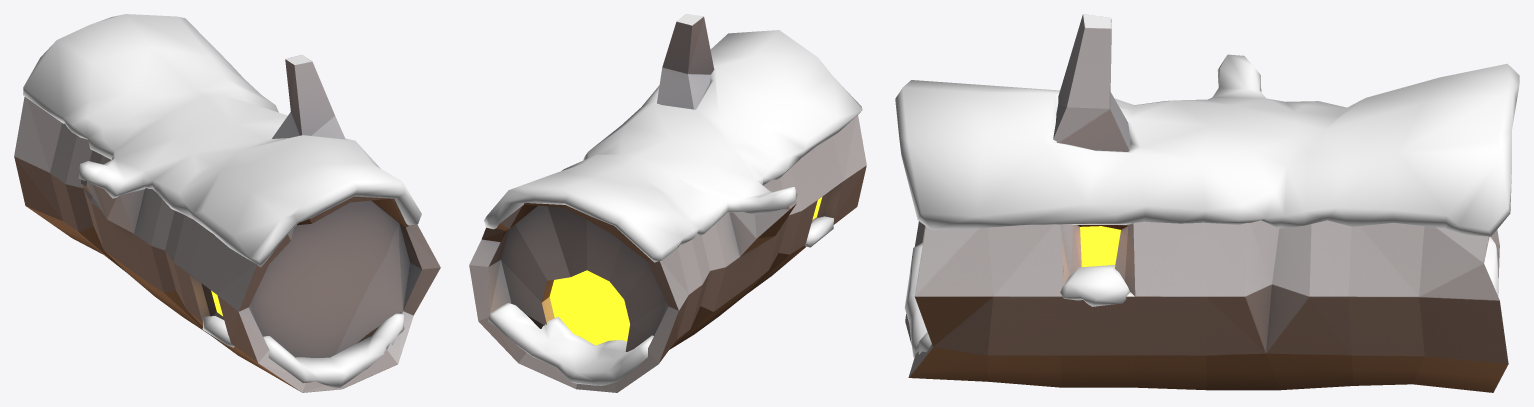
File: snowy-trunk-hut.fbx
The picture shows the model from 3 angles, left to right: view 1: azimuth 30°, elevation 25°; view 2: azimuth 150°, elevation 25°; view 3: azimuth 270°, elevation 25°; orthographic projection. The views are drawn at different scales.
Visible parts, largest first — view 1: mdl_trunk_hut; view 2: mdl_trunk_hut; view 3: mdl_trunk_hut.
Part boxes in pixels (x1=…): mdl_trunk_hut: x1=14, y1=14, x2=440, y2=392; mdl_trunk_hut: x1=469, y1=14, x2=866, y2=392; mdl_trunk_hut: x1=895, y1=14, x2=1519, y2=392.
Size of the model in its own units: 384 by 417 by 632.
